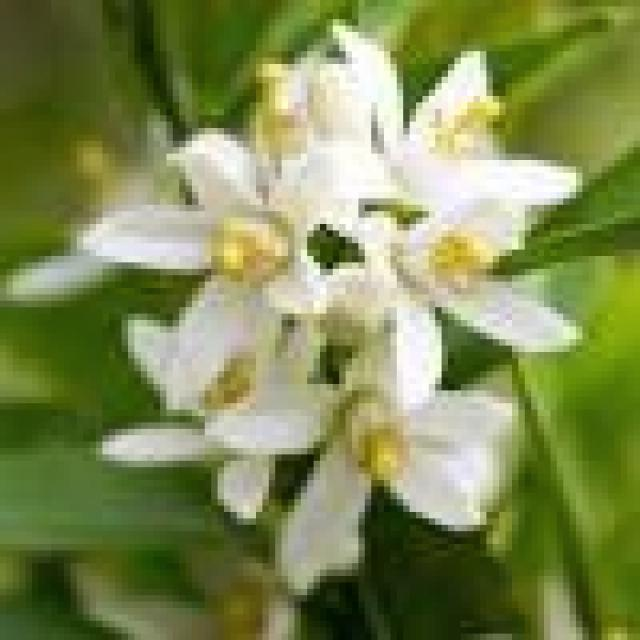Bunga: (212, 320, 486, 589), (83, 134, 339, 384), (326, 204, 576, 410), (108, 301, 326, 525), (333, 26, 576, 204)
